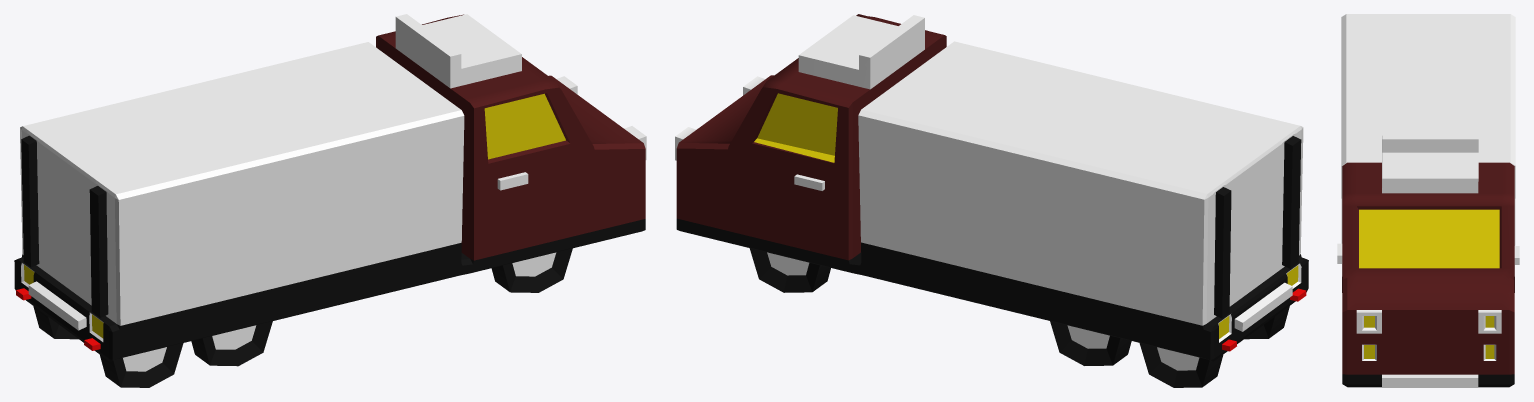
File: track(1).FBX
The picture shows the model from 3 angles, left to right: view 1: azimuth 30°, elevation 25°; view 2: azimuth 150°, elevation 25°; view 3: azimuth 270°, elevation 25°; orthographic projection. The views are drawn at different scales.
Visible parts, largest first — view 1: Object003; view 2: Object003; view 3: Object003.
Part boxes in pixels (x1=…): Object003: x1=14, y1=14, x2=646, y2=387; Object003: x1=675, y1=14, x2=1308, y2=387; Object003: x1=1337, y1=14, x2=1519, y2=387.
Size of the model in its own units: 1287 by 543 by 418.
